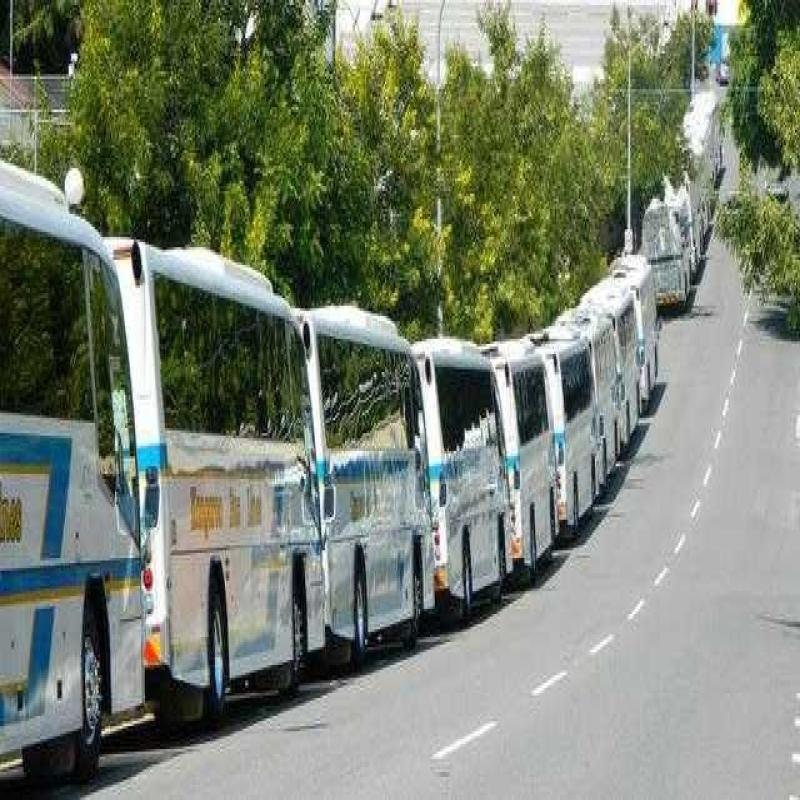bus: (114, 204, 323, 727), (0, 171, 149, 752), (303, 277, 416, 684), (425, 306, 501, 615), (539, 308, 602, 553)
